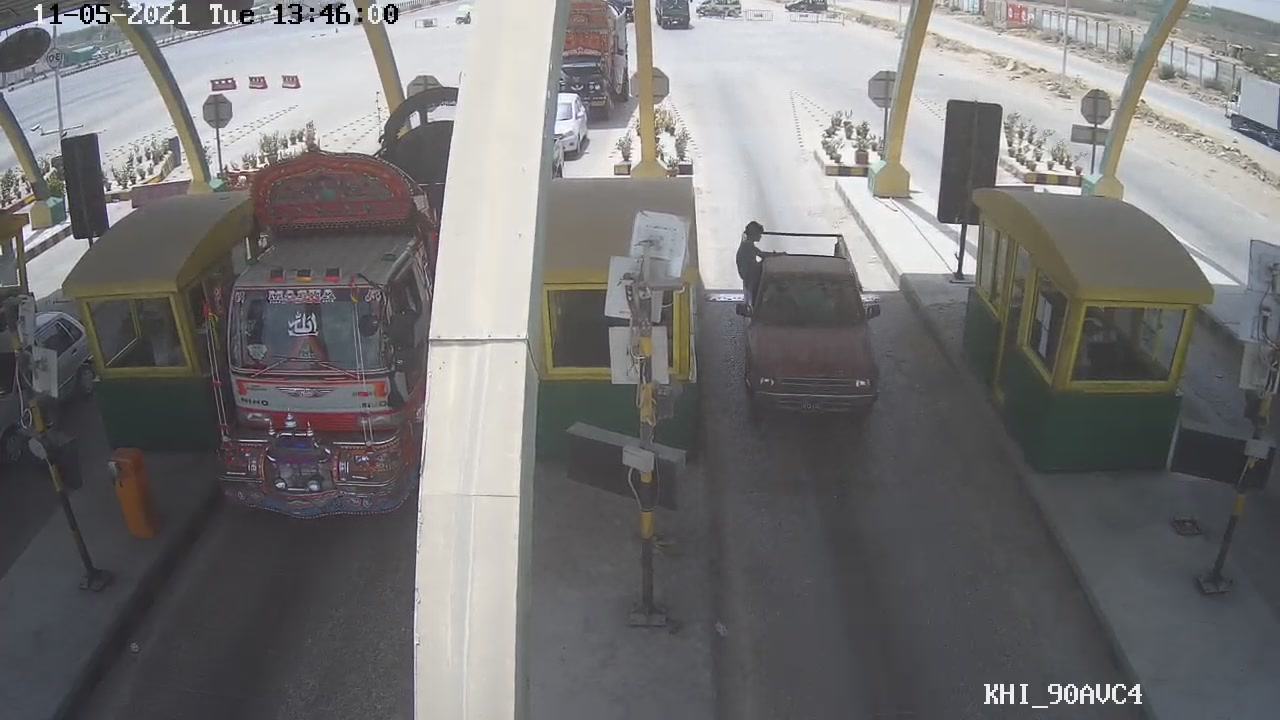F1: (738, 218, 895, 435)
